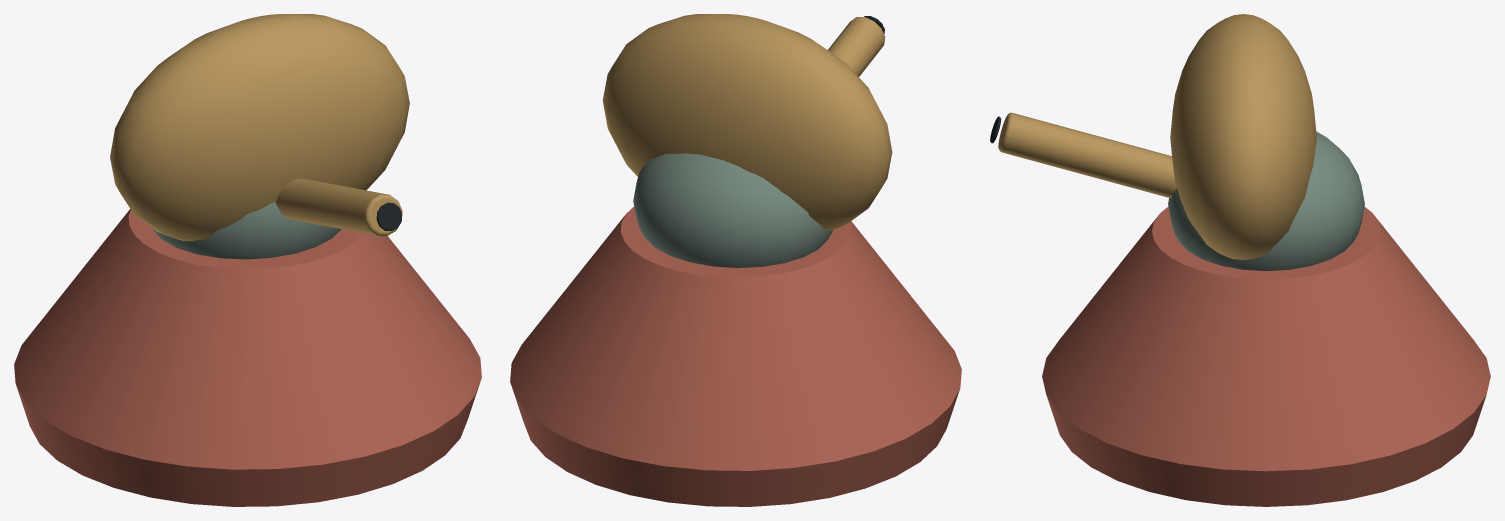
The picture shows the model from 3 angles, left to right: view 1: azimuth 30°, elevation 25°; view 2: azimuth 150°, elevation 25°; view 3: azimuth 270°, elevation 25°; orthographic projection. The views are drawn at different scales.
Parts seen in each view (by area): view 1: Turret armoured pedestal, Turret sloped reflector, Weapon pivot, Weapon barrel, Weapon dark bore; view 2: Turret armoured pedestal, Turret sloped reflector, Weapon pivot, Weapon barrel; view 3: Turret armoured pedestal, Turret sloped reflector, Weapon pivot, Weapon barrel.
Part boxes in pixels (x1,y1,x2,y2): Turret armoured pedestal: (14, 209, 481, 506); Turret sloped reflector: (110, 14, 409, 241); Weapon pivot: (152, 202, 341, 259); Weapon barrel: (275, 178, 402, 236); Weapon dark bore: (376, 202, 402, 230); Turret armoured pedestal: (510, 206, 961, 506); Turret sloped reflector: (602, 14, 892, 230); Weapon pivot: (633, 153, 832, 267); Weapon barrel: (828, 17, 885, 76); Turret armoured pedestal: (1042, 206, 1490, 506); Turret sloped reflector: (1170, 14, 1316, 260); Weapon pivot: (1168, 131, 1364, 271); Weapon barrel: (998, 112, 1176, 198).
Bounding box in the file's own units: 1.96 × 1.85 × 2.19.
